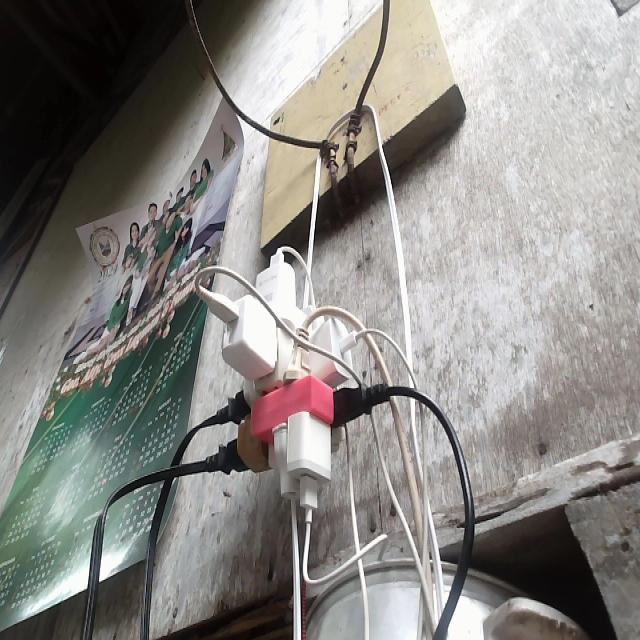-: (200, 248, 391, 524)
